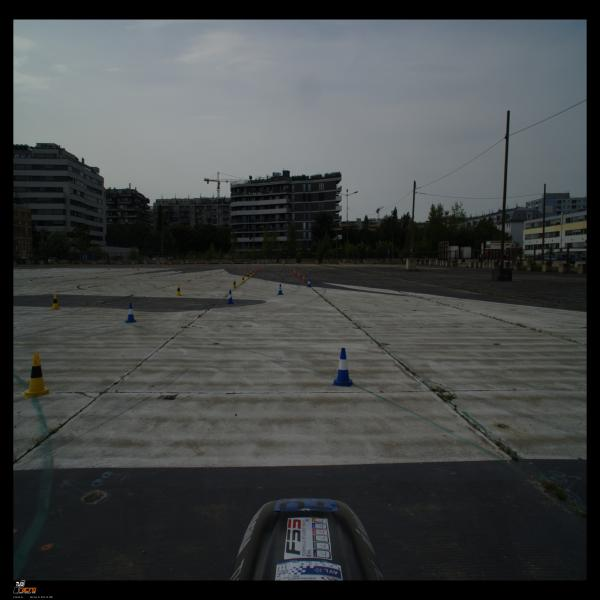blue_cone: (332, 348, 353, 387), (124, 303, 138, 323), (227, 290, 234, 304), (277, 284, 284, 295), (306, 278, 312, 288)
orange_cone: (302, 274, 306, 282), (298, 271, 301, 278), (107, 265, 110, 270), (262, 265, 265, 270), (290, 267, 293, 272), (201, 264, 204, 268), (255, 267, 257, 273), (293, 268, 295, 274), (294, 270, 296, 276), (137, 265, 139, 270), (226, 265, 228, 270), (257, 266, 259, 271), (281, 266, 283, 271), (132, 265, 134, 269), (164, 265, 166, 269), (166, 264, 168, 268), (196, 265, 198, 269), (234, 265, 236, 269), (246, 266, 248, 270)
yellow_cone: (22, 353, 52, 398), (50, 294, 61, 310), (176, 284, 182, 296), (232, 279, 237, 288), (241, 275, 245, 283), (246, 272, 250, 280), (252, 269, 255, 275), (250, 271, 252, 277)
